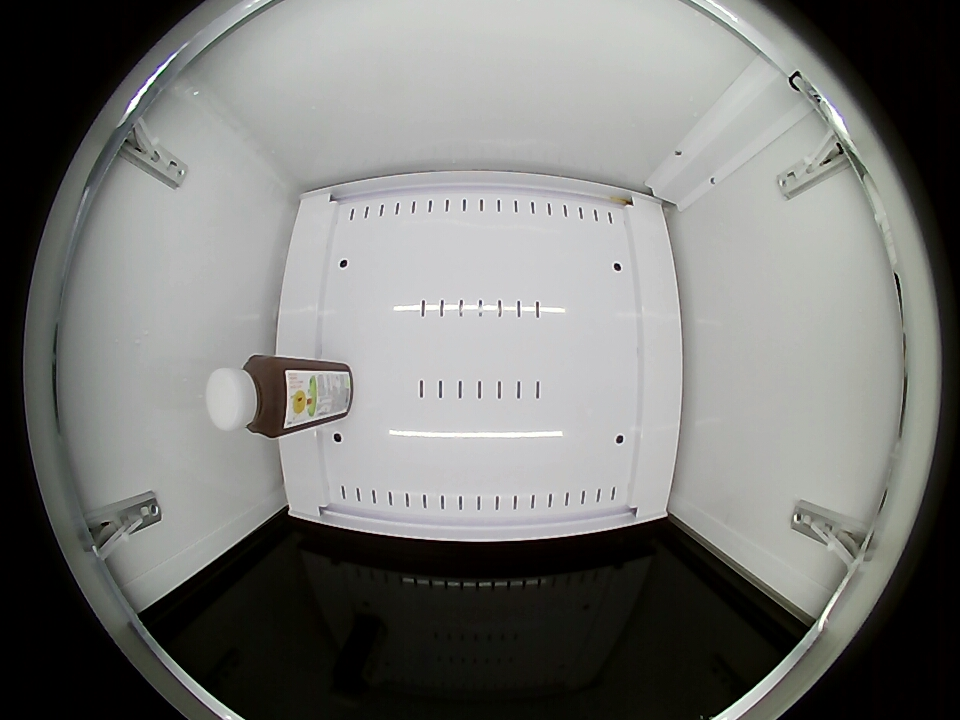youyanggudong: (206, 356, 291, 438)
